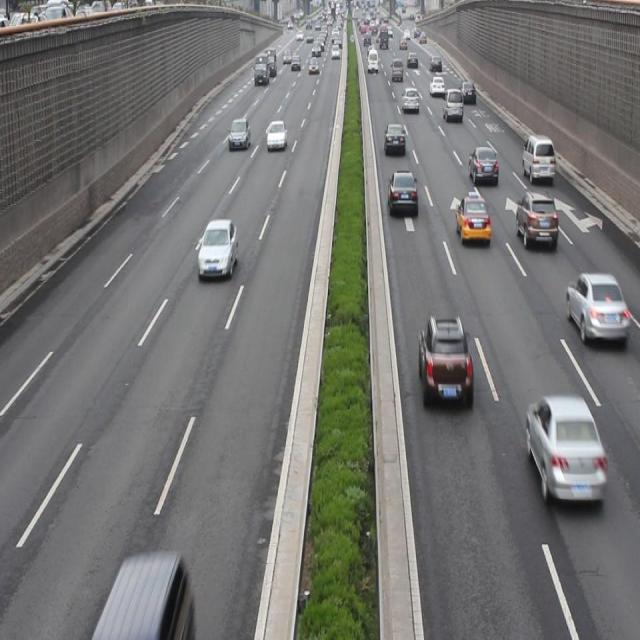car: (526, 393, 603, 503), (419, 314, 472, 410), (567, 269, 626, 344), (198, 218, 236, 279), (516, 191, 556, 246), (455, 191, 490, 245), (388, 168, 417, 215), (471, 144, 498, 185), (228, 117, 250, 152), (385, 121, 405, 154), (266, 120, 286, 150)
truck: (522, 134, 554, 180)
